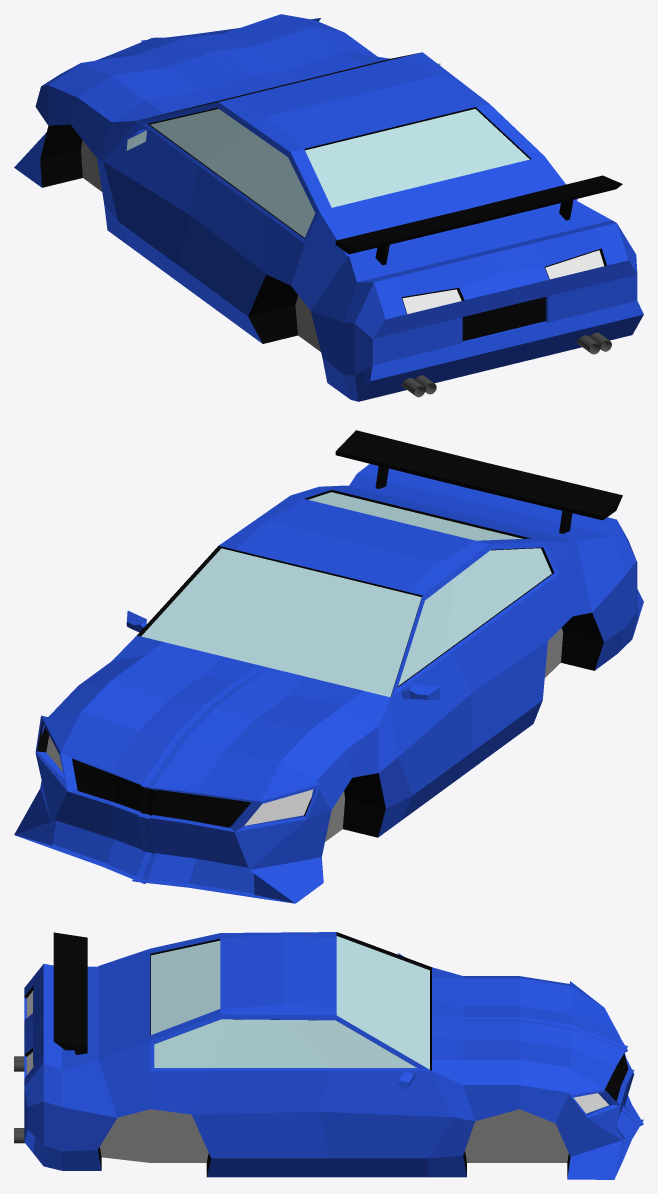
File: TheCar_WithoutTires.fbx
The picture shows the model from 3 angles, top to bottom: view 1: azimuth 30°, elevation 25°; view 2: azimuth 150°, elevation 25°; view 3: azimuth 270°, elevation 25°; orthographic projection. The views are drawn at different scales.
Parts seen in each view (by area): view 1: Cube; view 2: Cube; view 3: Cube.
Boxes of the visible parts, x1=… form: Cube: x1=14, y1=14, x2=643, y2=401; Cube: x1=14, y1=430, x2=643, y2=903; Cube: x1=14, y1=932, x2=643, y2=1179.
Bounding box in the file's own units: 220 × 125 × 459.
